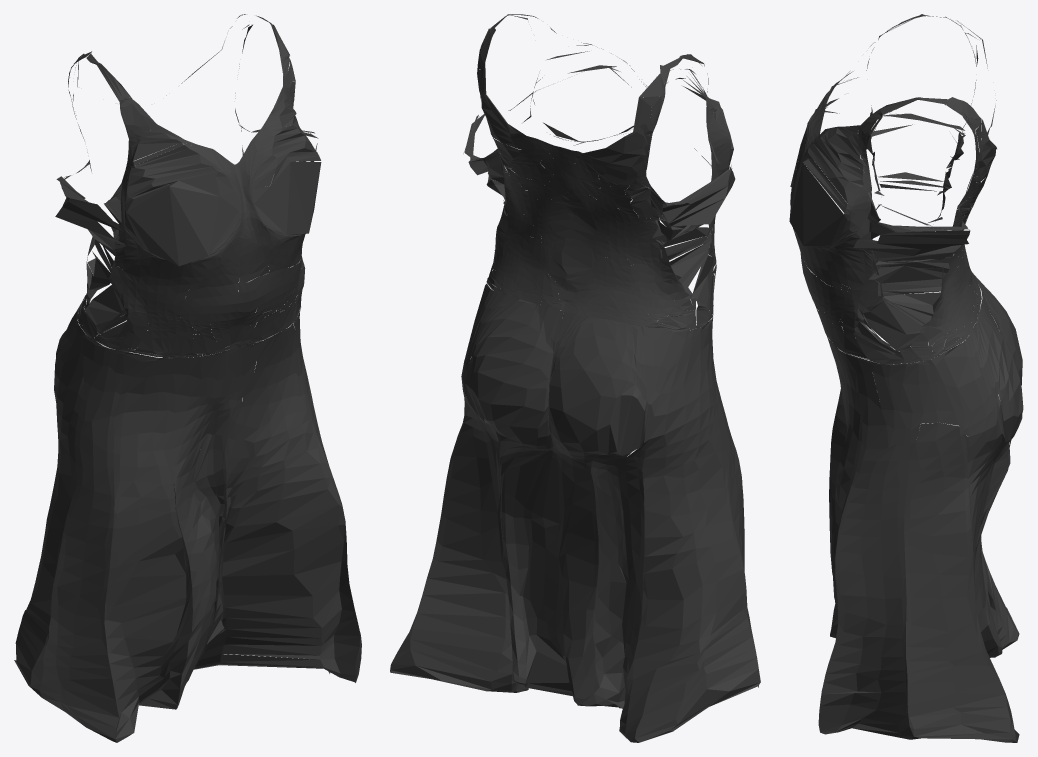
File: cc_camisole.glb
3 views of the same model, side by side, from view 1: azimuth 30°, elevation 25°; view 2: azimuth 150°, elevation 25°; view 3: azimuth 270°, elevation 25° (orthographic). The views are drawn at different scales.
Parts seen in each view (by area): view 1: geometry_0; view 2: geometry_0; view 3: geometry_0.
Part boxes in pixels (x1,y1,x2,y2): geometry_0: (14,14,361,742); geometry_0: (390,14,760,742); geometry_0: (789,14,1023,742).
Size of the model in its own units: 0.3269 by 0.6263 by 0.2103.
1 material, 1 textured.
